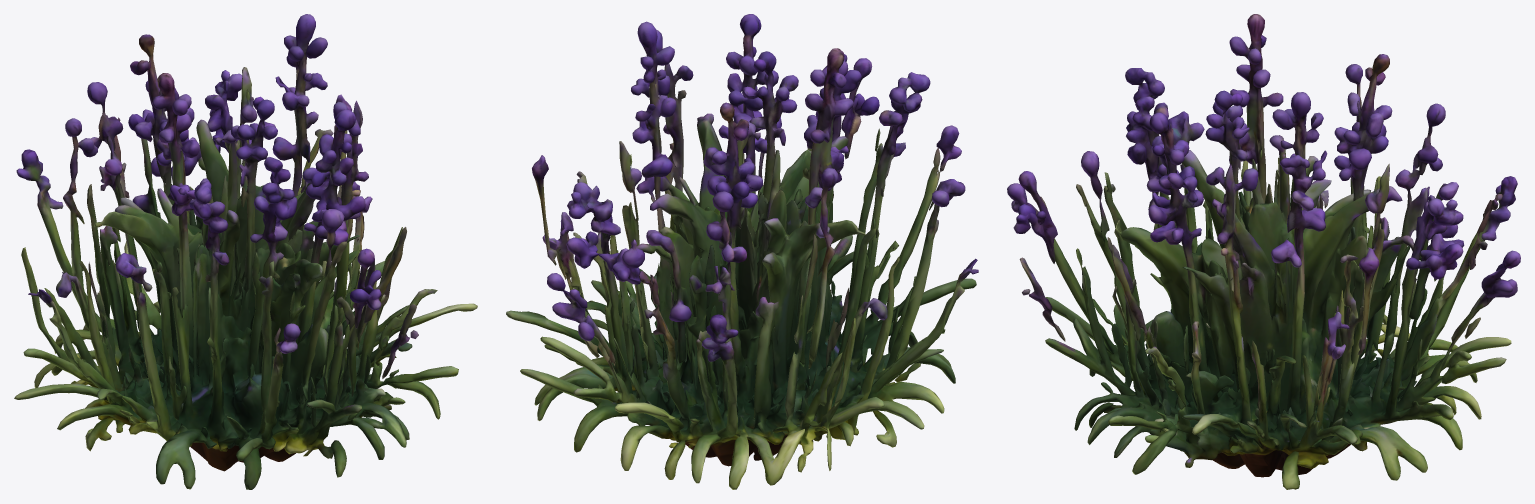
File: nature-bush-lavender.glb
The picture shows the model from 3 angles, left to right: view 1: azimuth 30°, elevation 25°; view 2: azimuth 150°, elevation 25°; view 3: azimuth 270°, elevation 25°; orthographic projection.
Visible parts, largest first — view 1: tripo_node_81c7ff0e-5285-4755-8dd1-d66ba3e46f65; view 2: tripo_node_81c7ff0e-5285-4755-8dd1-d66ba3e46f65; view 3: tripo_node_81c7ff0e-5285-4755-8dd1-d66ba3e46f65.
Boxes of the visible parts, x1,y1,x2,y2 form: tripo_node_81c7ff0e-5285-4755-8dd1-d66ba3e46f65: (14, 14, 477, 489); tripo_node_81c7ff0e-5285-4755-8dd1-d66ba3e46f65: (506, 14, 978, 489); tripo_node_81c7ff0e-5285-4755-8dd1-d66ba3e46f65: (1007, 14, 1520, 489).
Bounding box in the file's own units: 0.8468 × 0.8 × 0.8905.
1 material, 1 textured.
